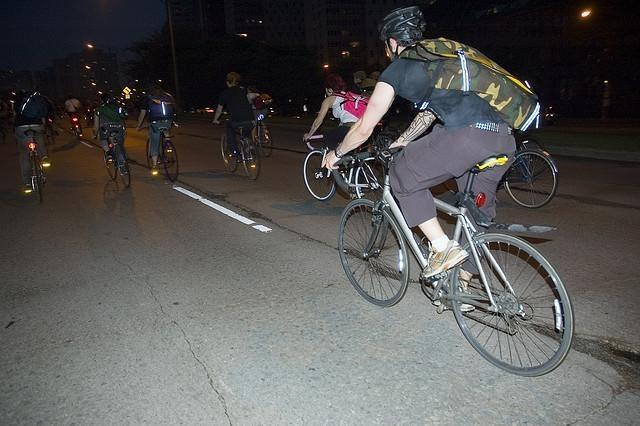bicycle: (334, 146, 576, 378), (73, 112, 274, 158), (302, 135, 386, 200), (502, 134, 558, 208), (214, 118, 262, 182), (140, 123, 180, 182), (104, 129, 134, 189), (23, 129, 47, 204), (46, 114, 56, 146)
car: (542, 106, 558, 126)
